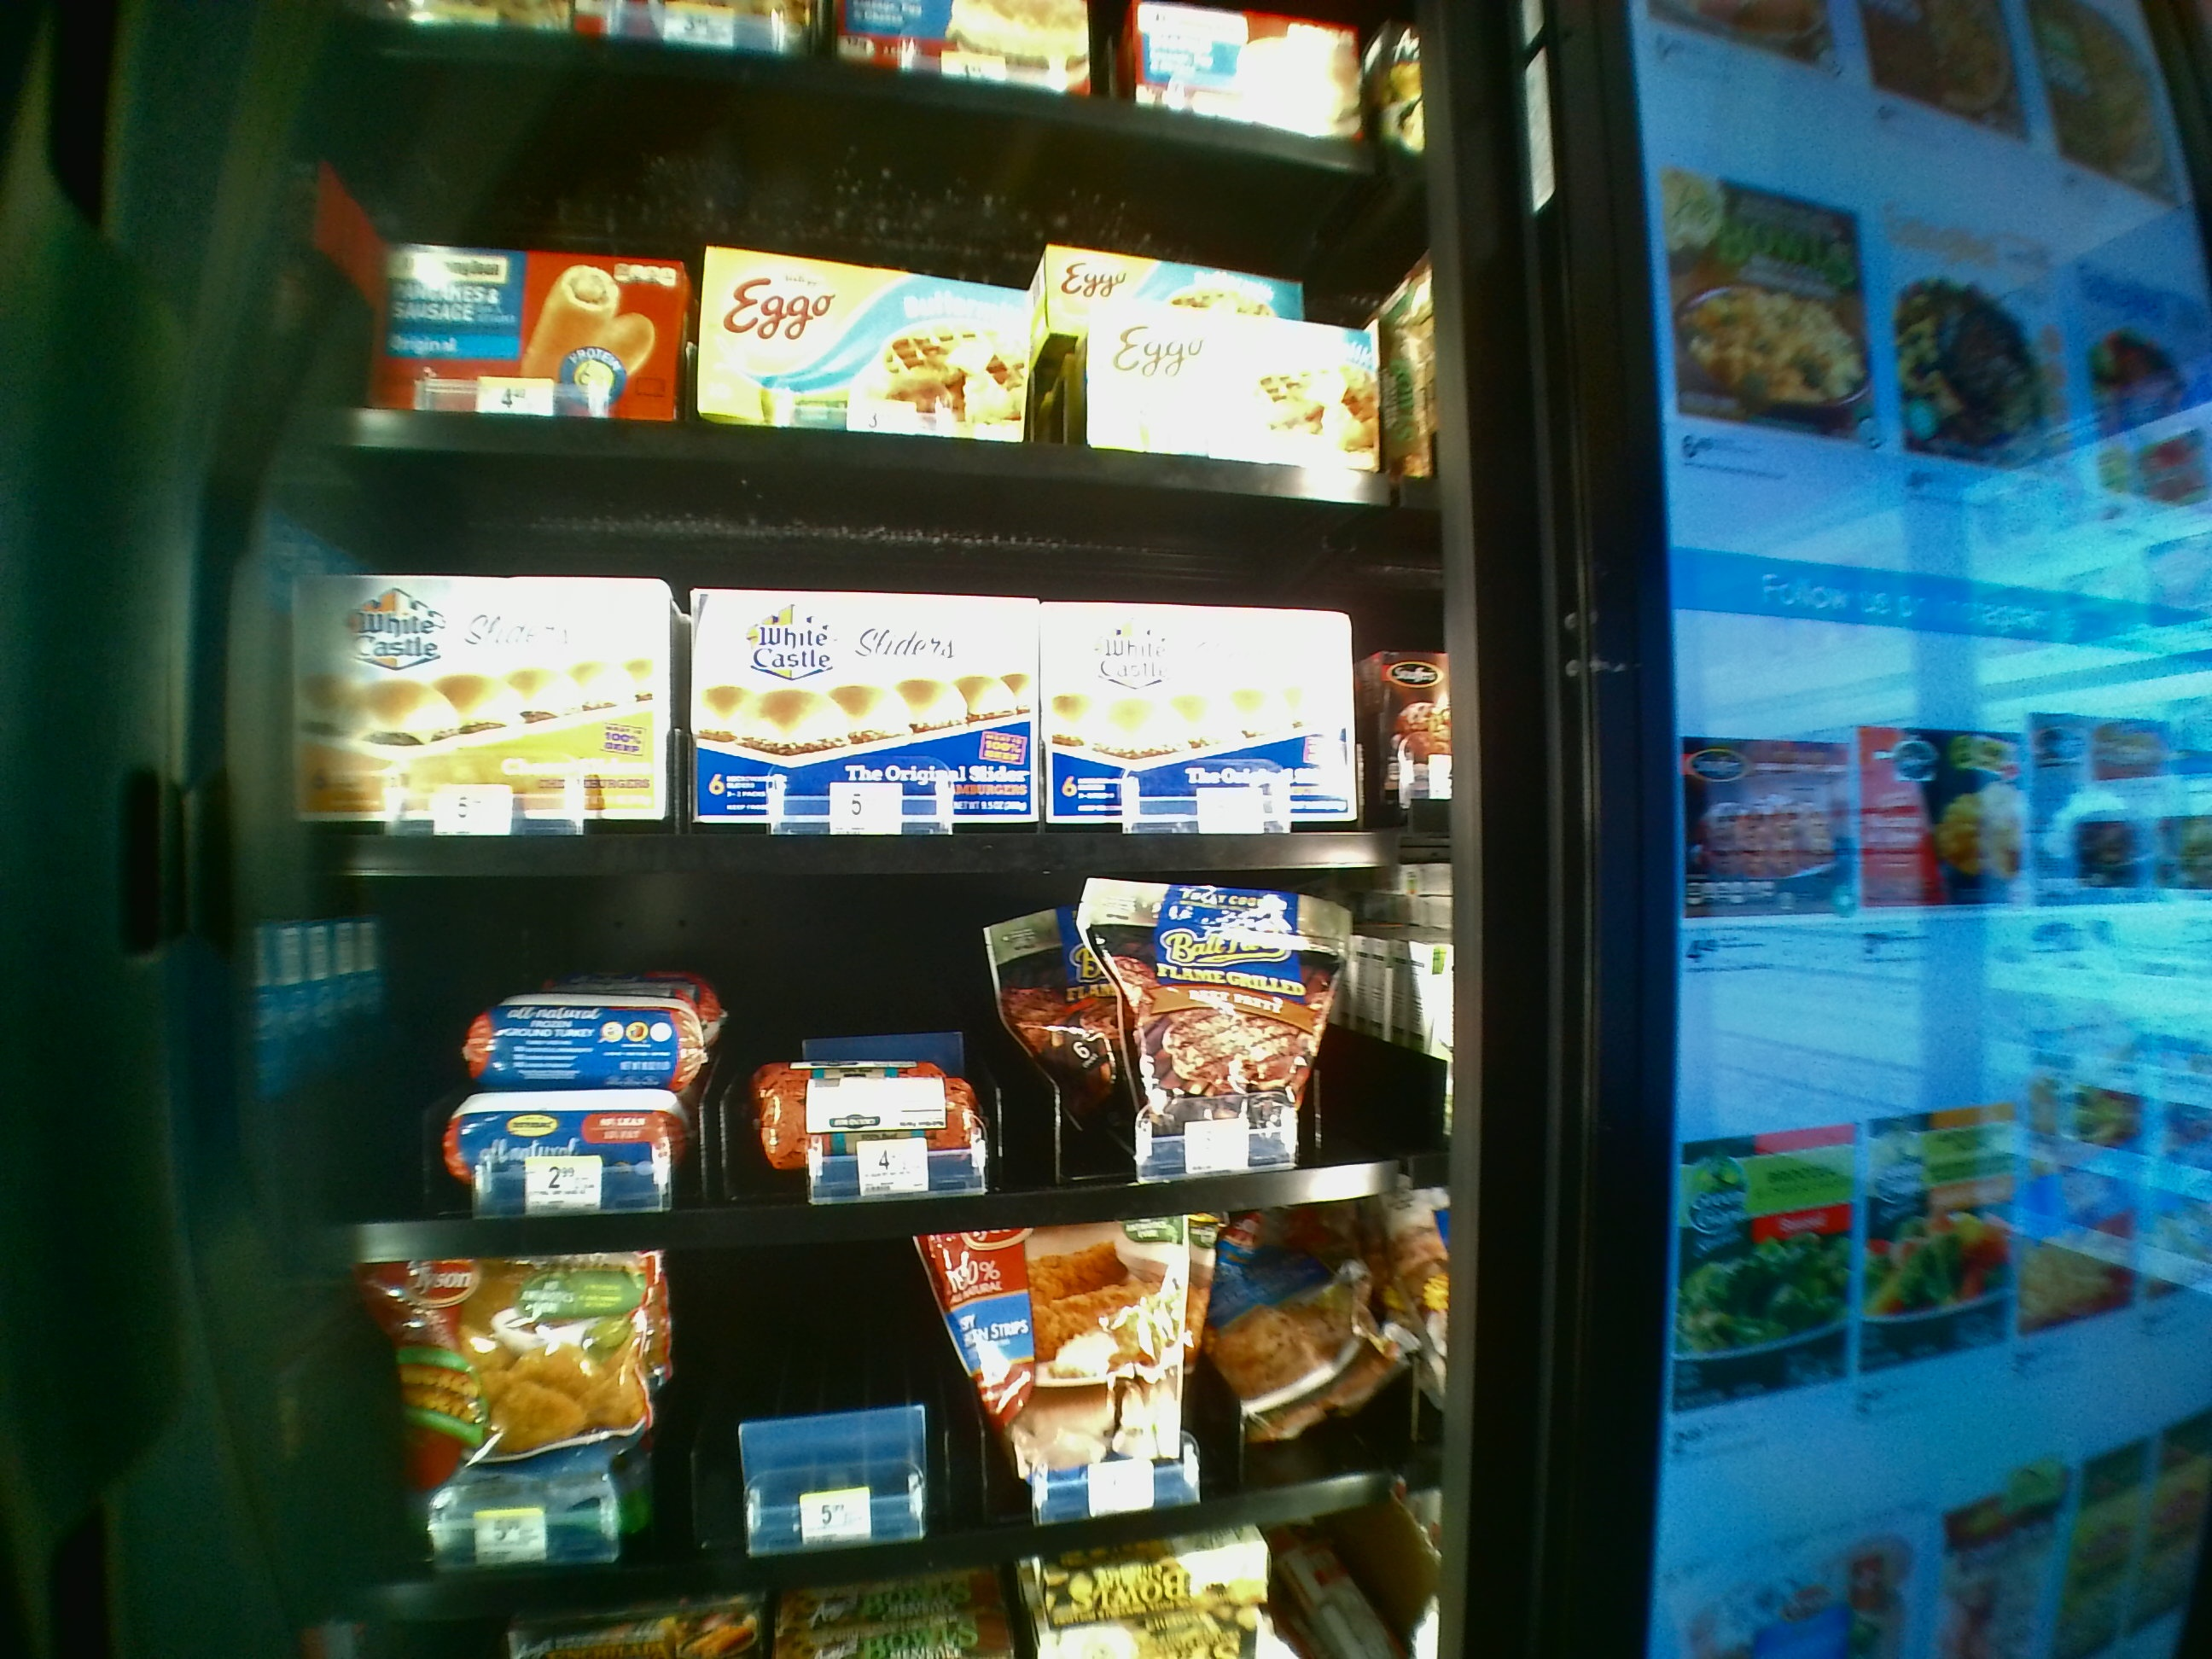shelf: (284, 453, 1446, 873), (284, 892, 1451, 1270)
